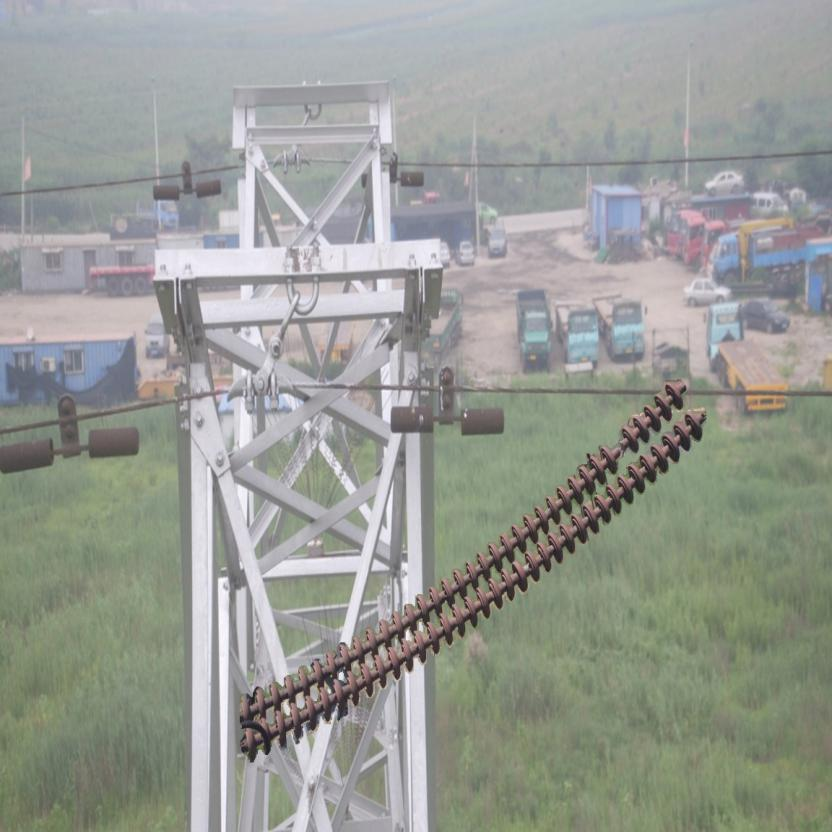defect: (596, 425, 639, 474)
